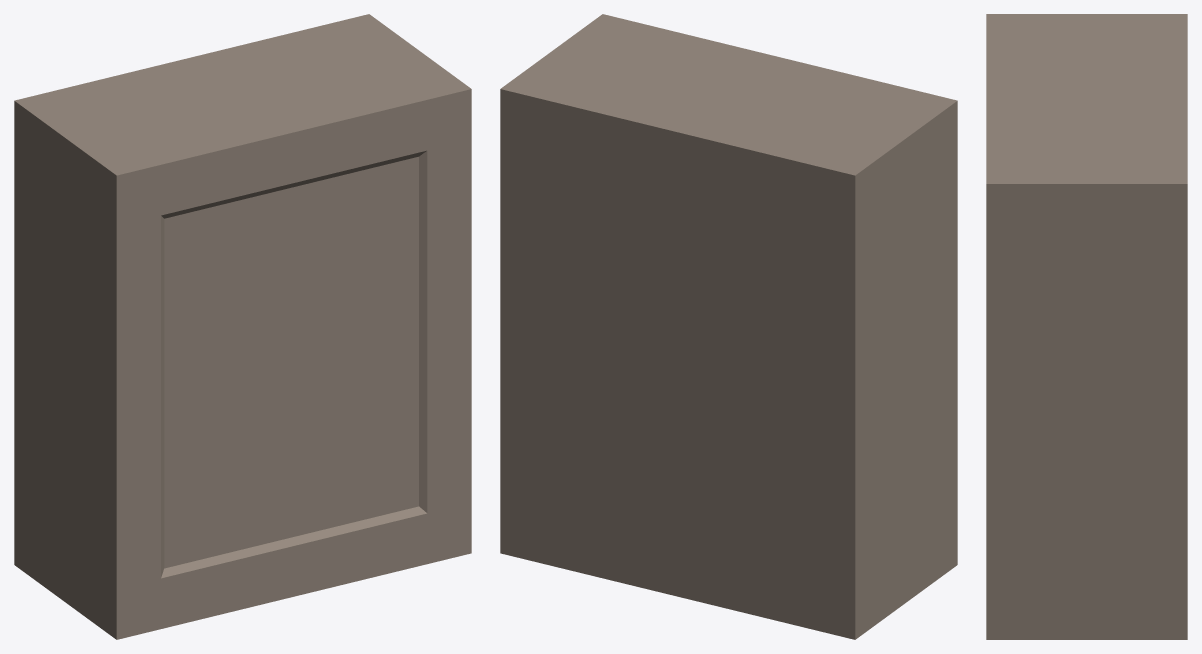
File: Wall-Cabinet-Single-Door-with-Shelves_std_001_W24in.glb
3 views of the same model, side by side, from view 1: azimuth 30°, elevation 25°; view 2: azimuth 150°, elevation 25°; view 3: azimuth 270°, elevation 25° (orthographic).
Parts seen in each view (by area): view 1: Wall-Cabinet-Single-Door-with-Shelves.std.001_W24in; view 2: Wall-Cabinet-Single-Door-with-Shelves.std.001_W24in; view 3: Wall-Cabinet-Single-Door-with-Shelves.std.001_W24in.
Boxes of the visible parts, bbox=[...] form: Wall-Cabinet-Single-Door-with-Shelves.std.001_W24in: bbox=[14, 14, 471, 639]; Wall-Cabinet-Single-Door-with-Shelves.std.001_W24in: bbox=[500, 14, 957, 639]; Wall-Cabinet-Single-Door-with-Shelves.std.001_W24in: bbox=[986, 14, 1187, 639].
Size of the model in its own units: 0.6096 by 0.762 by 0.3048.
